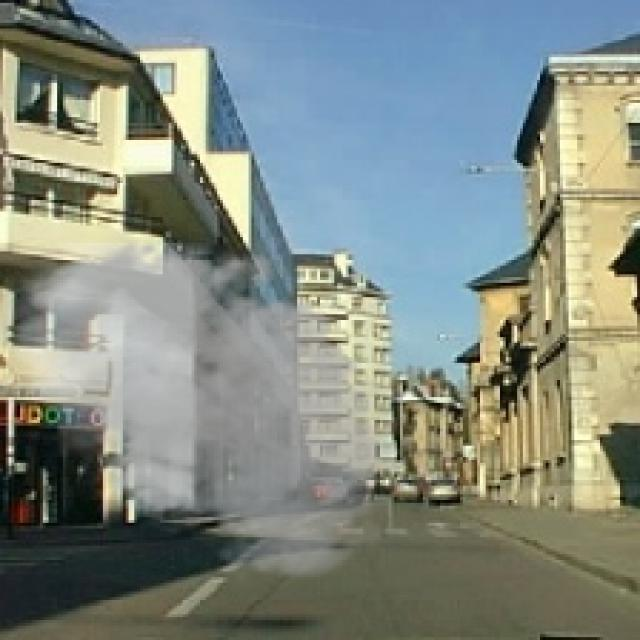smoke: (0, 228, 412, 586)
